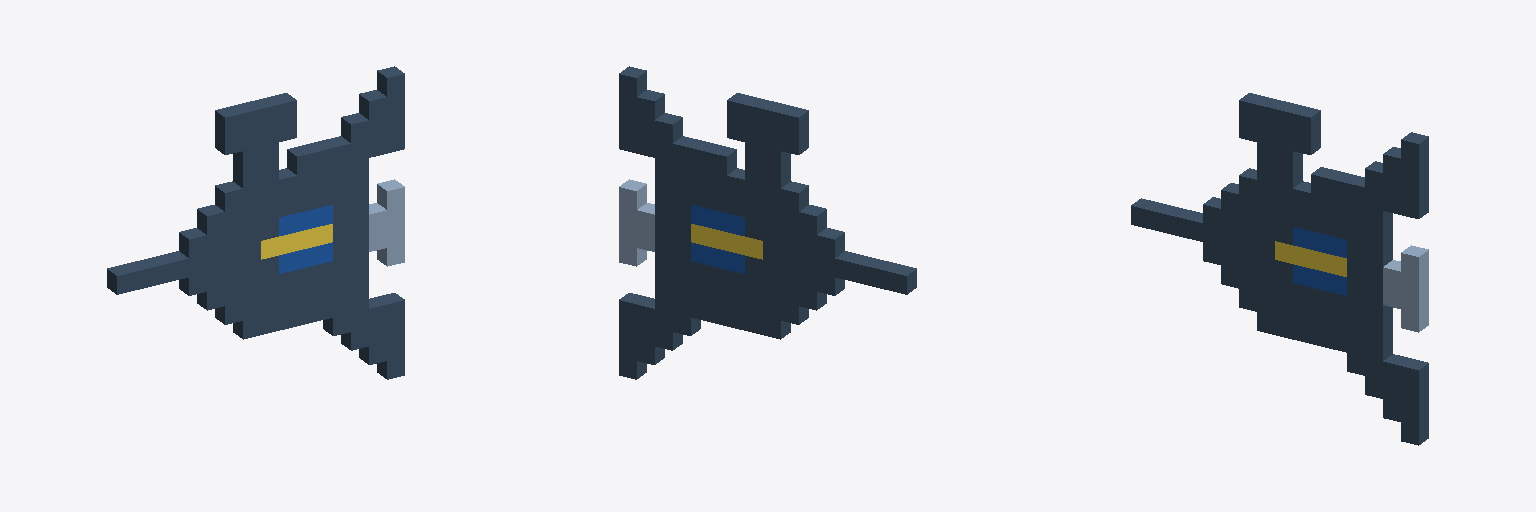
Rendered from Shippy.obj.
3 renders of one model, left to right at view 1: azimuth 30°, elevation 25°; view 2: azimuth 150°, elevation 25°; view 3: azimuth 330°, elevation 25°, orthographic.
Size of the model in its own units: 16 by 16 by 1.